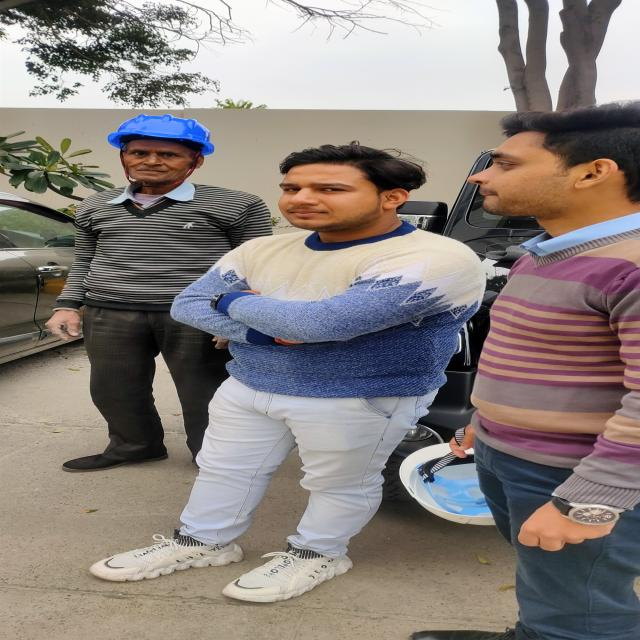no jacket: (46, 114, 274, 472)
unsafe: (110, 147, 486, 603), (463, 103, 640, 640)
